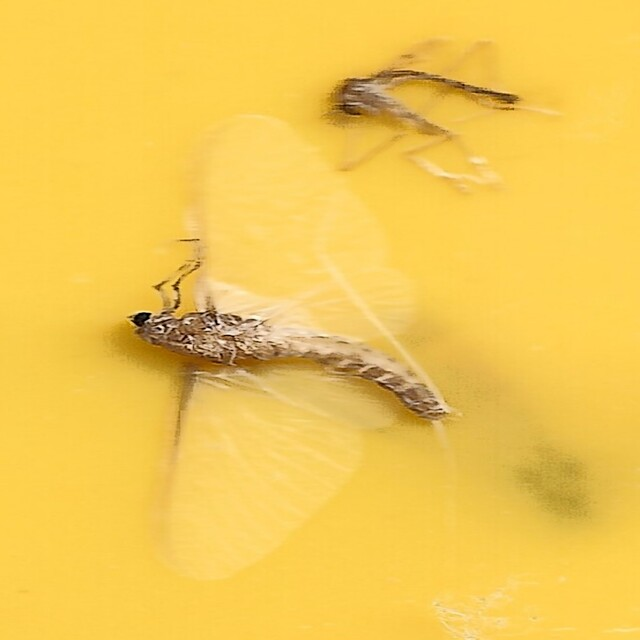Ephemeroptera: (116, 116, 455, 573)
Nematocera: (317, 67, 524, 142)
